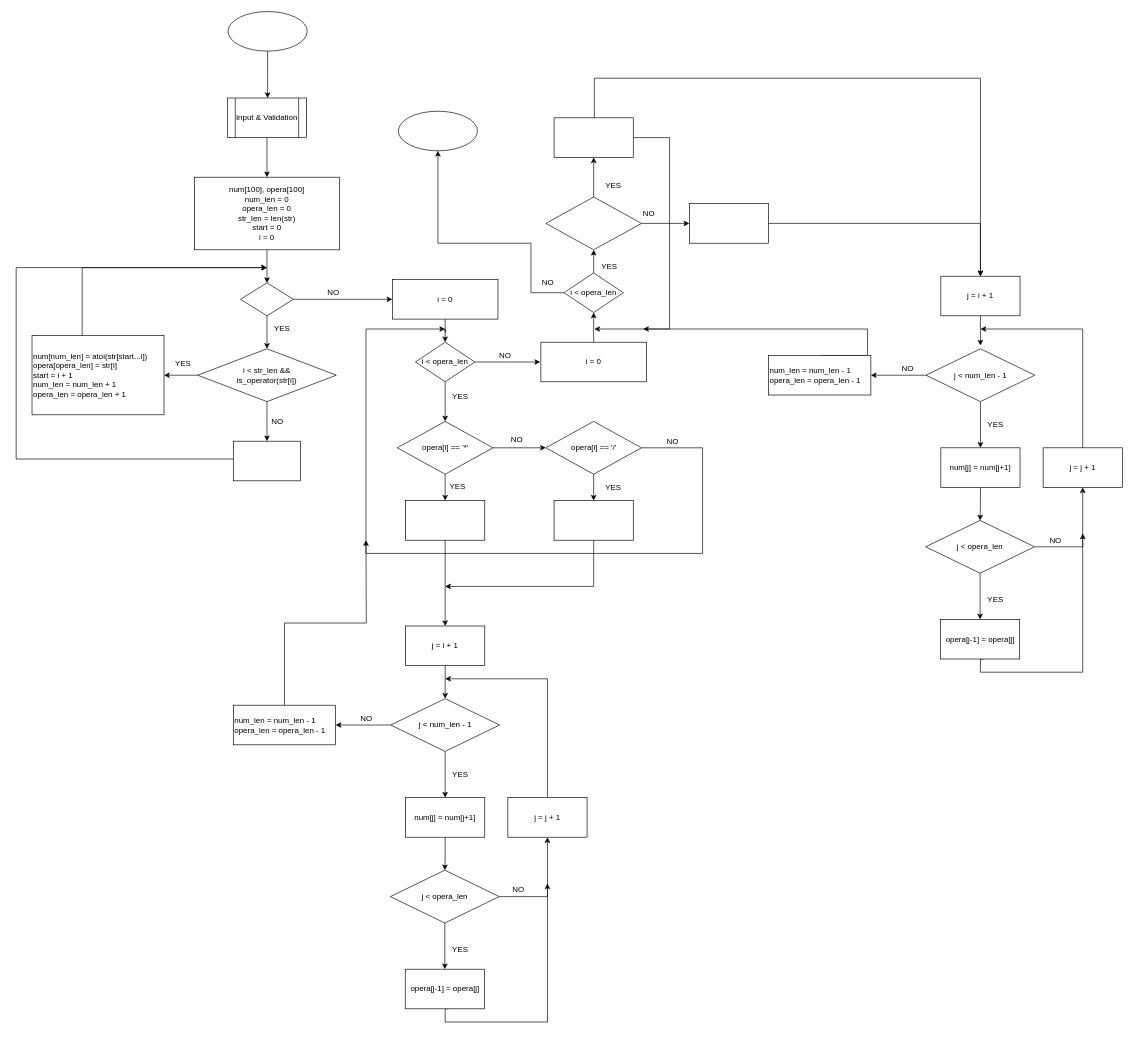
This 1134x1039 diagram has some shape labels left out. The centre of each missing label's shape, as x and y in pixels:
"Bắt đầu" goes at pixel 267 31.
"i < str_len" goes at pixel 266 299.
"i++" goes at pixel 267 461.
"KQ = num[0]" goes at pixel 438 131.
"num[i] *= num[i+1]" goes at pixel 445 520.
"num[i] += num[i+1]" goes at pixel 593 137.
"num[i] -= num[i+1]" goes at pixel 729 223.
"num[i] /= num[i+1]" goes at pixel 593 520.
"opera[i] == '+'" goes at pixel 593 223.
